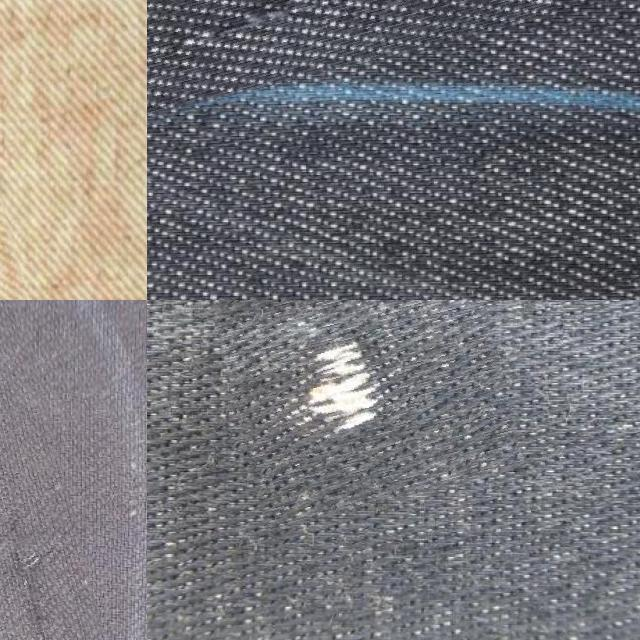Thread_other: (209, 300, 510, 515), (147, 0, 550, 92), (0, 300, 98, 640), (0, 49, 44, 300)
